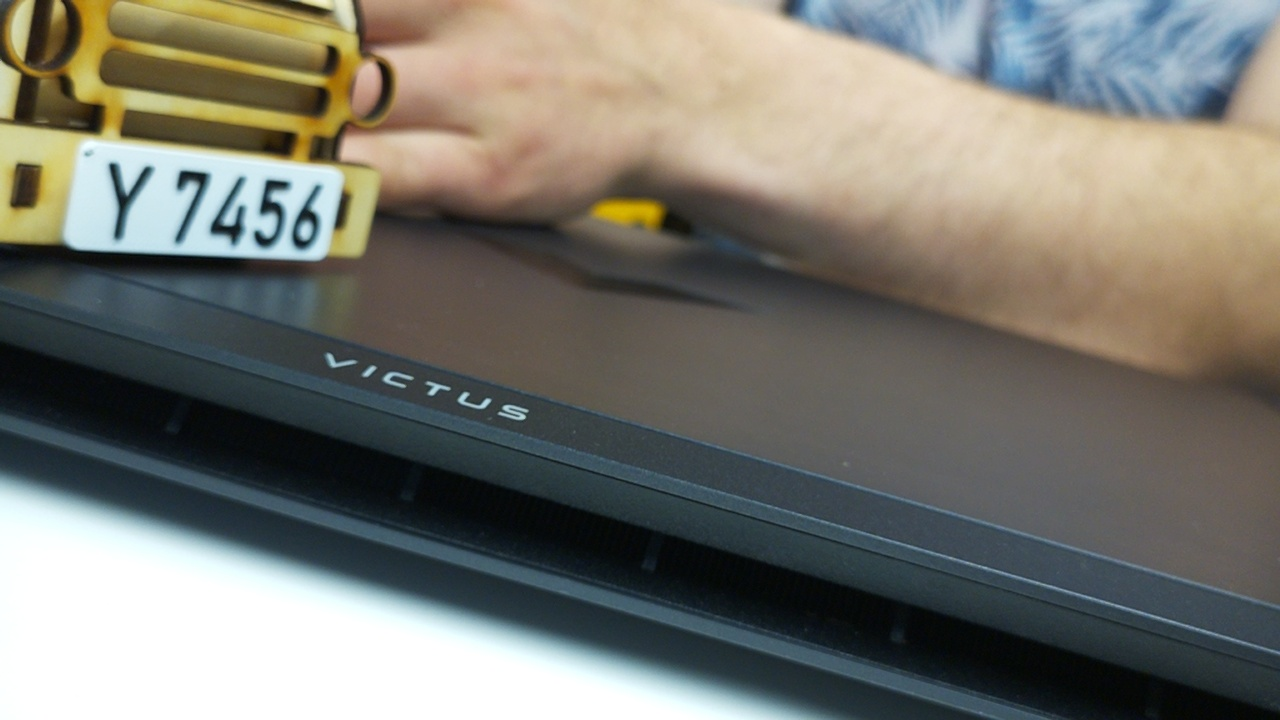license_plate: (60, 137, 347, 265)
